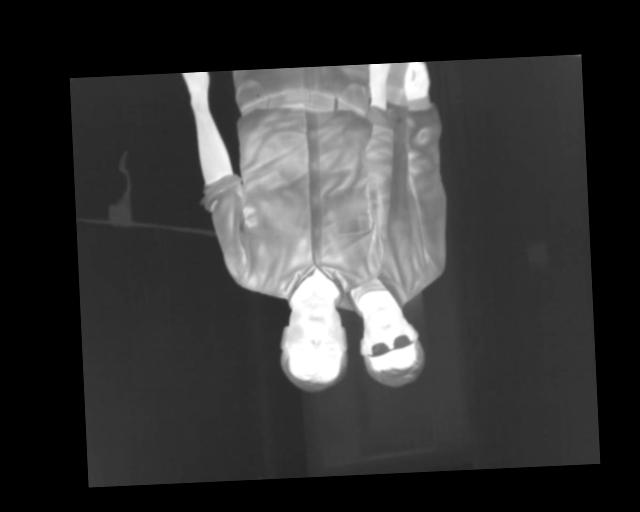face: (277, 296, 351, 395), (357, 306, 425, 389)
